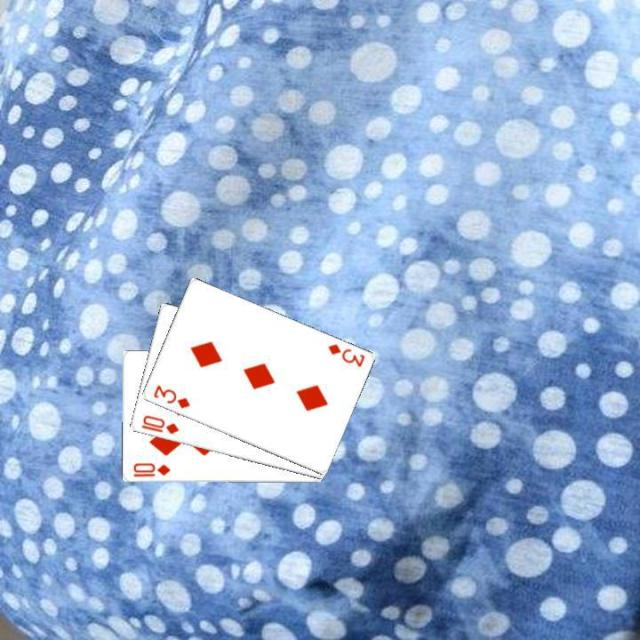10D: (137, 412, 180, 436), (129, 460, 171, 479)
3D: (149, 381, 192, 411), (324, 339, 366, 369)
